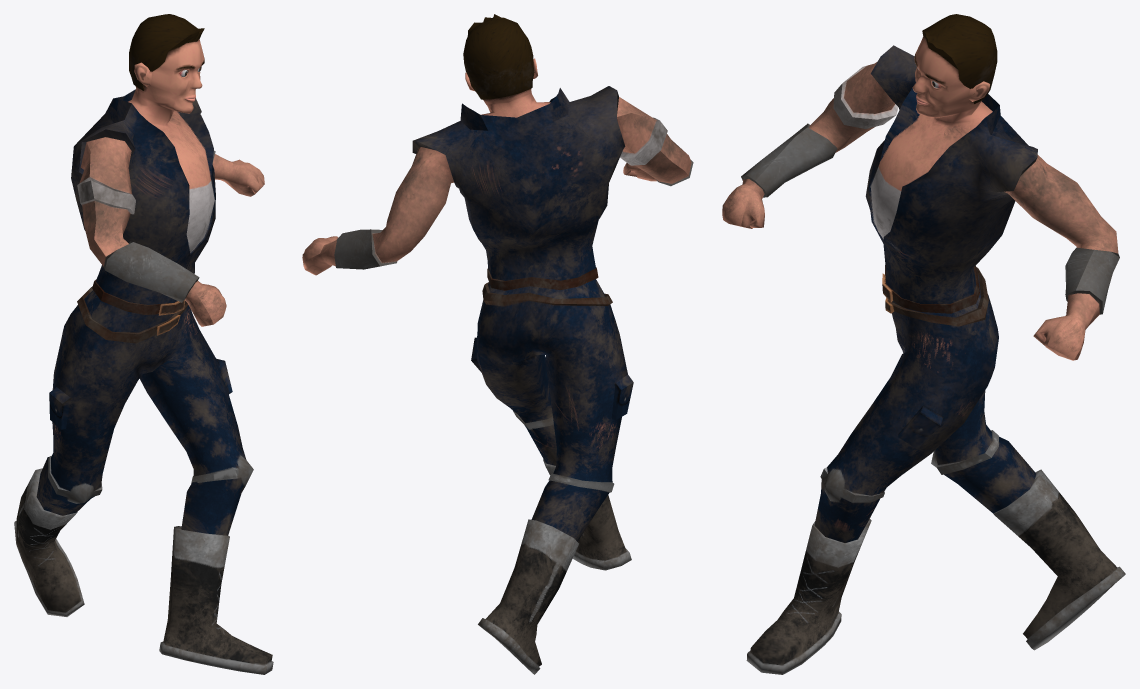
File: Anim_ataque_f1_jugador.0015.obj
3 views of the same model, side by side, from view 1: azimuth 30°, elevation 25°; view 2: azimuth 150°, elevation 25°; view 3: azimuth 270°, elevation 25° (orthographic). The views are drawn at different scales.
Parts seen in each view (by area): view 1: polySurface1; view 2: polySurface1; view 3: polySurface1.
Part boxes in pixels (x1,y1,x2,y2): polySurface1: [14, 14, 273, 674]; polySurface1: [302, 14, 693, 674]; polySurface1: [722, 14, 1125, 674].
Bounding box in the file's own units: 4.51 × 9.44 × 5.19.
